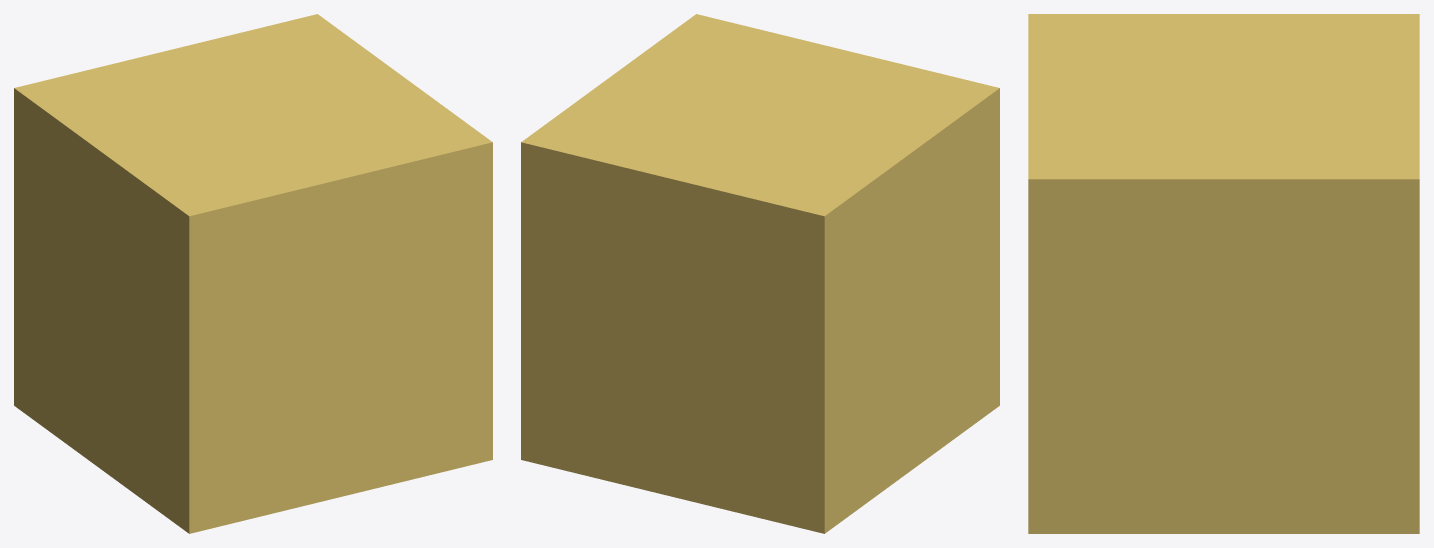
The picture shows the model from 3 angles, left to right: view 1: azimuth 30°, elevation 25°; view 2: azimuth 150°, elevation 25°; view 3: azimuth 270°, elevation 25°; orthographic projection. The views are drawn at different scales.
Visible parts, largest first — view 1: pCube30; view 2: pCube30; view 3: pCube30.
Boxes of the visible parts, <box> form: pCube30: <box>14,14,492,533</box>; pCube30: <box>521,14,999,533</box>; pCube30: <box>1028,14,1419,533</box>.
Bounding box in the file's own units: 10.41 × 10.41 × 10.41.
